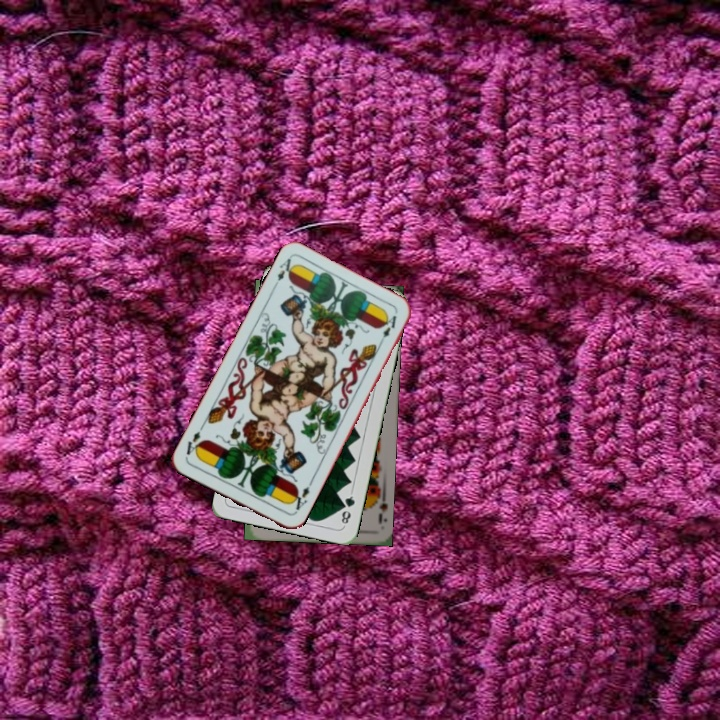EA: (269, 254, 298, 291), (286, 482, 312, 516)
G8: (337, 488, 358, 528)
S9: (370, 489, 389, 527)
